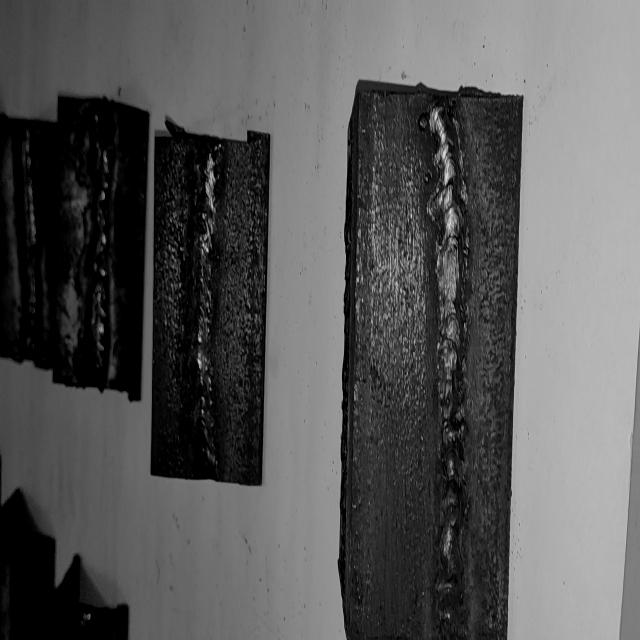Good Weld: (428, 107, 471, 628), (195, 143, 221, 471), (88, 111, 111, 380), (19, 124, 41, 356)
